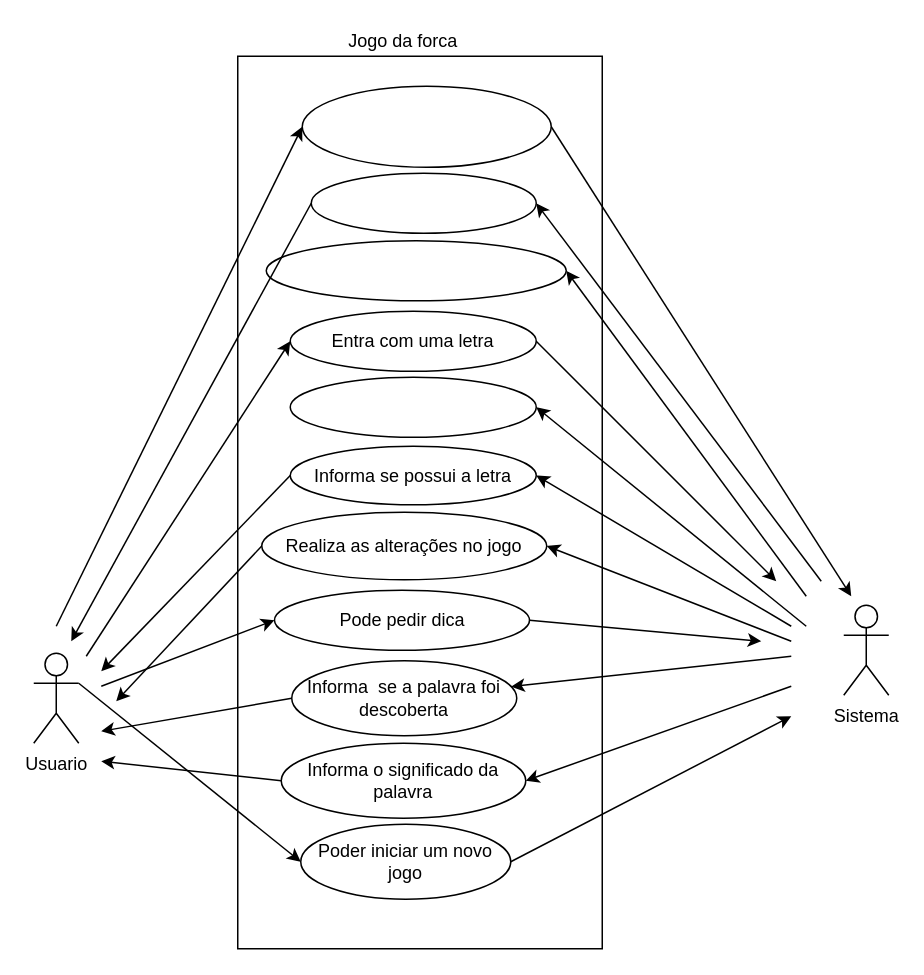
The diagram is 924 pixels wide and 975 high, and some of its shapes have lost their labels. The centre of each missing label's shape, as x and y in pixels:
"Define uma palavra secreta tampada" belongs at pixel 415 270.
"Informa as regras" belongs at pixel 423 202.
"Pode tirar duvidas de como jogar" belongs at pixel 426 126.
"Verifica se possui a letra" belongs at pixel 412 406.
